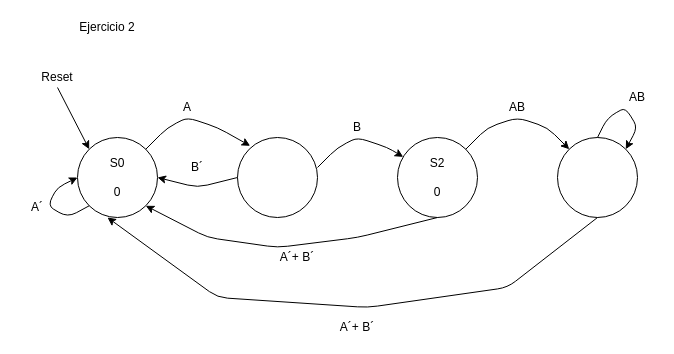
The diagram is 674 pixels wide and 354 high, and some of its shapes have lost their labels. The shapes that lost their labels are listed below. From the top down, each one's centre as x and y in pixels, then its label:
(x=277, y=177): S1 0
(x=597, y=177): S3 1
